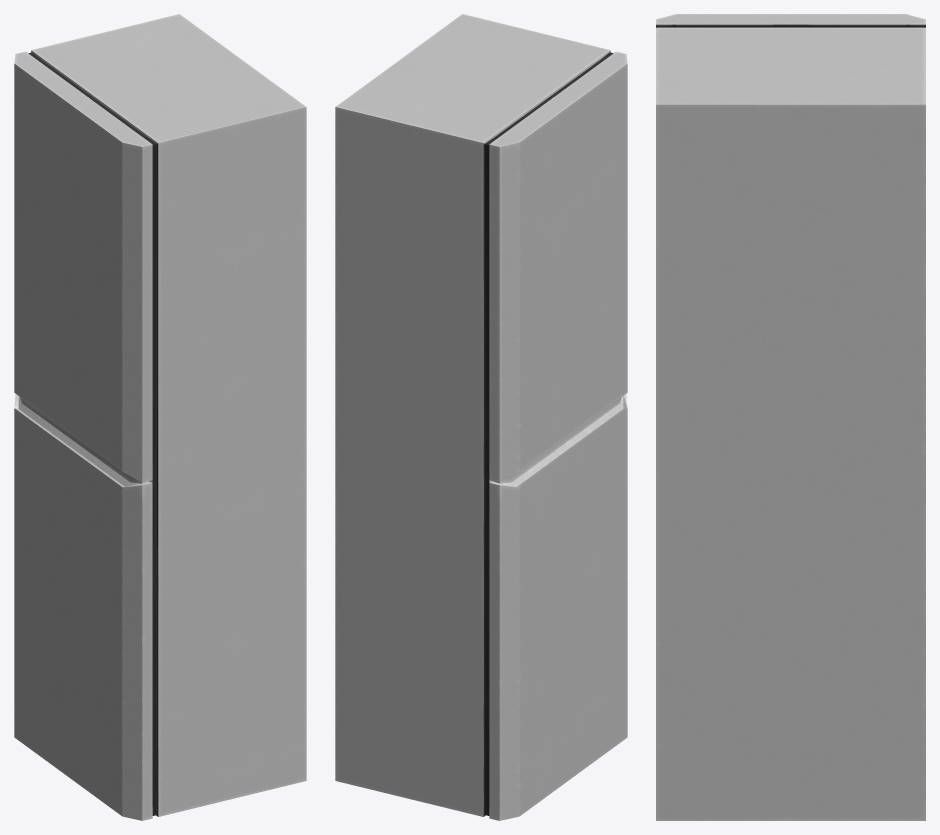
The model's file is fridge.dae.
3 views of the same model, side by side, from view 1: azimuth 30°, elevation 25°; view 2: azimuth 150°, elevation 25°; view 3: azimuth 270°, elevation 25° (orthographic). The views are drawn at different scales.
Visible parts, largest first — view 1: Cube; view 2: Cube; view 3: Cube.
Part boxes in pixels (x1,y1,x2,y2): Cube: (14,14,306,820); Cube: (335,14,627,820); Cube: (656,14,925,820).
Bounding box in the file's own units: 0.5389 × 0.6792 × 1.99.
